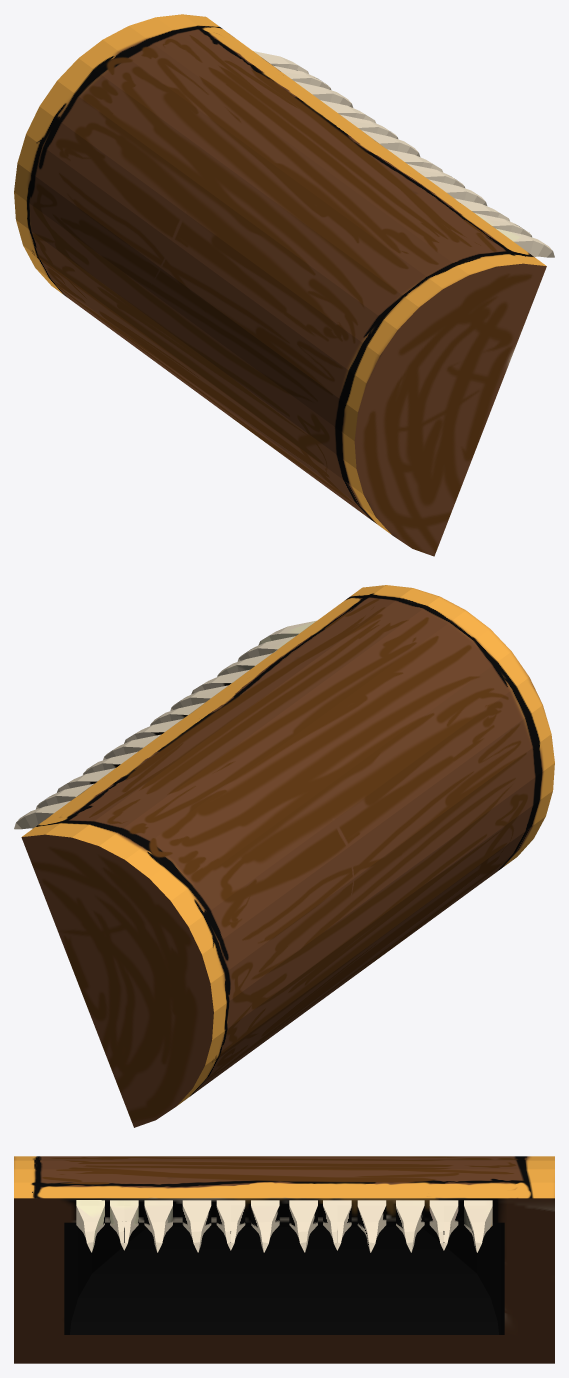
File: Mimic_Top.fbx
3 views of the same model, one above another, from view 1: azimuth 30°, elevation 25°; view 2: azimuth 150°, elevation 25°; view 3: azimuth 270°, elevation 25° (orthographic). The views are drawn at different scales.
Visible parts, largest first — view 1: Cylinder; view 2: Cylinder; view 3: Cylinder.
Part boxes in pixels (box(x1,y1,x2,y2)): Cylinder: box(14, 14, 554, 556); Cylinder: box(14, 585, 554, 1127); Cylinder: box(14, 1156, 554, 1363).
Bounding box in the file's own units: 150 × 158 × 355.
1 material, 1 textured.
